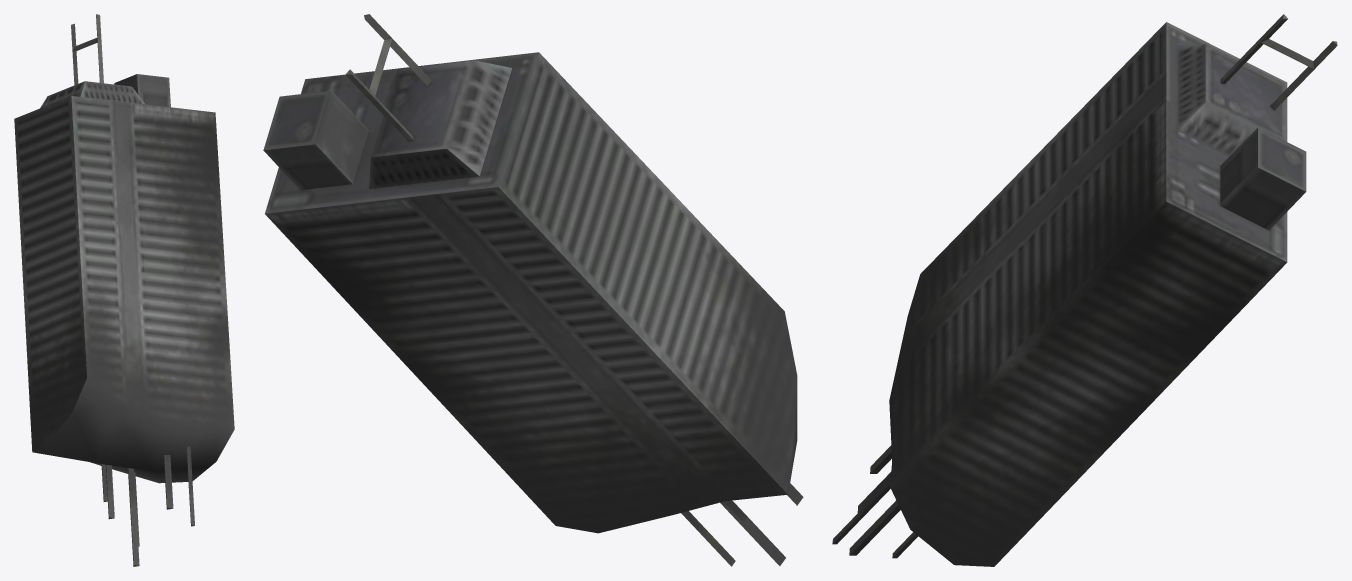
The model's file is skyBuildingAAC_pos_grp (32).fbx.
The picture shows the model from 3 angles, left to right: view 1: azimuth 30°, elevation 25°; view 2: azimuth 150°, elevation 25°; view 3: azimuth 270°, elevation 25°; orthographic projection. The views are drawn at different scales.
Parts seen in each view (by area): view 1: skyBuildingAAC_geo; view 2: skyBuildingAAC_geo; view 3: skyBuildingAAC_geo.
Part boxes in pixels (x1=…): skyBuildingAAC_geo: x1=14, y1=14, x2=234, y2=566; skyBuildingAAC_geo: x1=263, y1=14, x2=803, y2=566; skyBuildingAAC_geo: x1=832, y1=14, x2=1337, y2=566.
Size of the model in its own units: 4.99 by 8.34 by 6.16.
